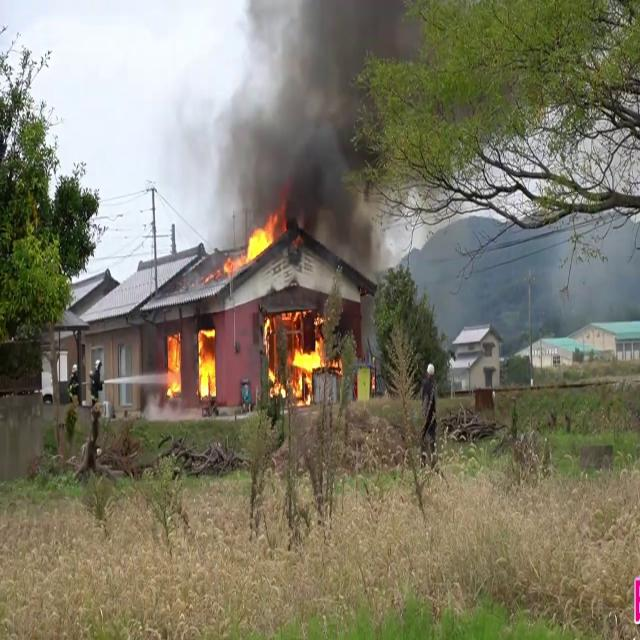Fire: (161, 321, 217, 401), (220, 215, 282, 278), (284, 331, 332, 401)
Smoke: (203, 0, 404, 258)
